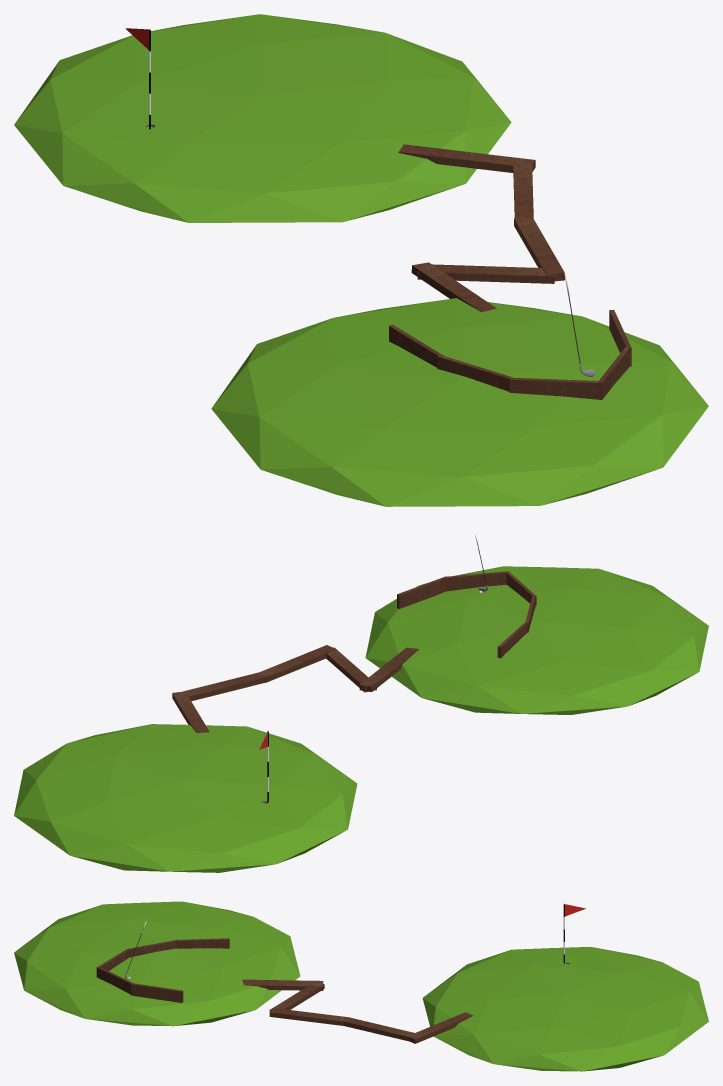
The model's file is level_2.glb.
The picture shows the model from 3 angles, top to bottom: view 1: azimuth 30°, elevation 25°; view 2: azimuth 150°, elevation 25°; view 3: azimuth 270°, elevation 25°; orthographic projection. The views are drawn at different scales.
Parts seen in each view (by area): view 1: grass.001, grass, Cube.007, Cube.002, Cube.008, Cube.003, Cube.005, Cube.006, Cube.009, Cube.011; view 2: grass.001, grass, Cube.006, Cube.005, Cube.001, Cube.003, Cube.010, Cube.002, Cube.007; view 3: grass.001, grass, Cube.005, Cube.003, Cube.006, Cube.010, Cube.007, Cube.011, Cube.002, Cube.001, Cube.009, Cube.008.
Part boxes in pixels (x1,y1,x2,y2): grass.001: (14, 14, 511, 222); grass: (211, 298, 708, 506); Cube.007: (398, 144, 535, 172); Cube.002: (417, 264, 554, 283); Cube.008: (509, 377, 601, 399); Cube.003: (411, 262, 496, 312); Cube.005: (514, 217, 564, 281); Cube.006: (513, 162, 533, 219); Cube.009: (437, 355, 513, 391); Cube.011: (389, 325, 444, 367); grass.001: (14, 724, 357, 872); grass: (365, 566, 708, 714); Cube.006: (178, 672, 265, 701); Cube.005: (256, 645, 336, 682); Cube.001: (445, 571, 509, 591); Cube.003: (359, 647, 418, 691); Cube.010: (397, 576, 446, 608); Cube.002: (326, 647, 376, 692); Cube.007: (172, 692, 209, 732); grass.001: (422, 946, 708, 1071); grass: (14, 901, 300, 1026); Cube.005: (269, 1008, 350, 1025); Cube.003: (242, 979, 323, 990); Cube.006: (344, 1017, 416, 1041); Cube.010: (131, 983, 183, 1002); Cube.007: (409, 1012, 473, 1043); Cube.011: (175, 938, 229, 948); Cube.002: (269, 984, 324, 1011); Cube.001: (96, 967, 134, 994); Cube.009: (129, 939, 178, 957); Cube.008: (97, 948, 129, 970).
Size of the model in its own units: 142 by 36.14 by 251.
11 materials, 1 textured.
